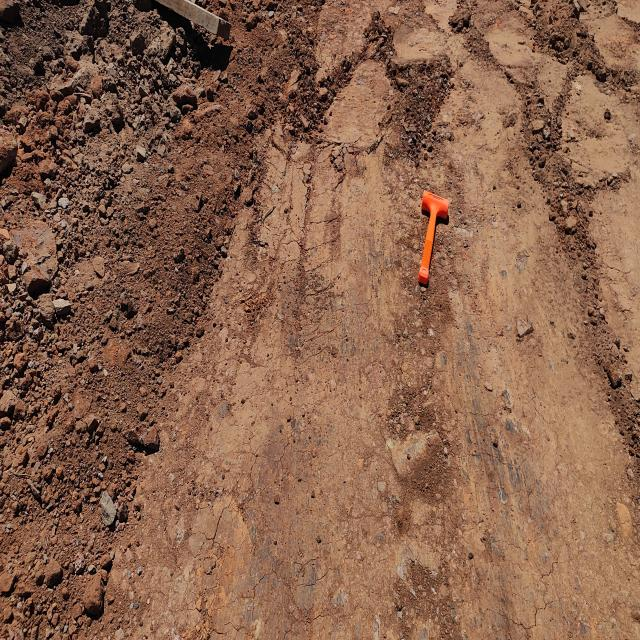Orange_hammer: (418, 189, 450, 287)
